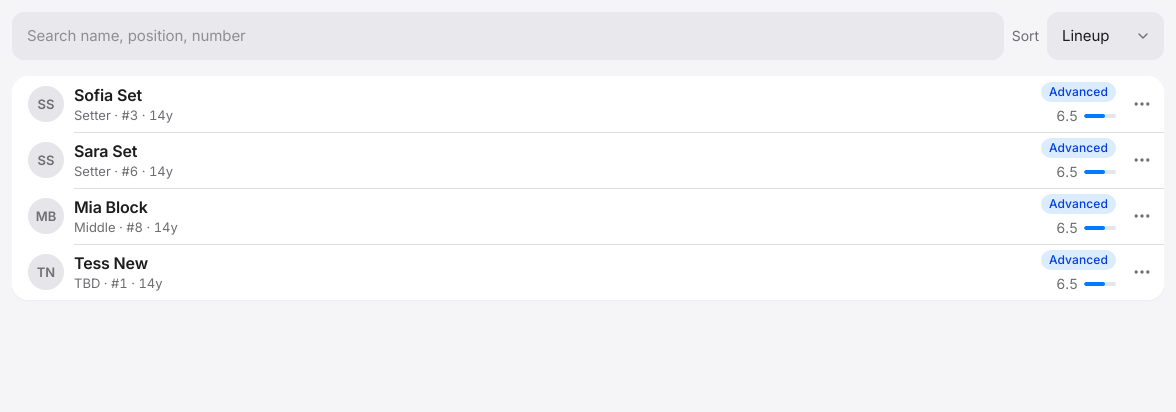
Scenario: TeamRosterTable › Position sort › groups the phone list by position, one list per group
Select "Position" in the dropdown labelled "Sort". click: (1106, 36)
box: [1047, 12, 1164, 60]
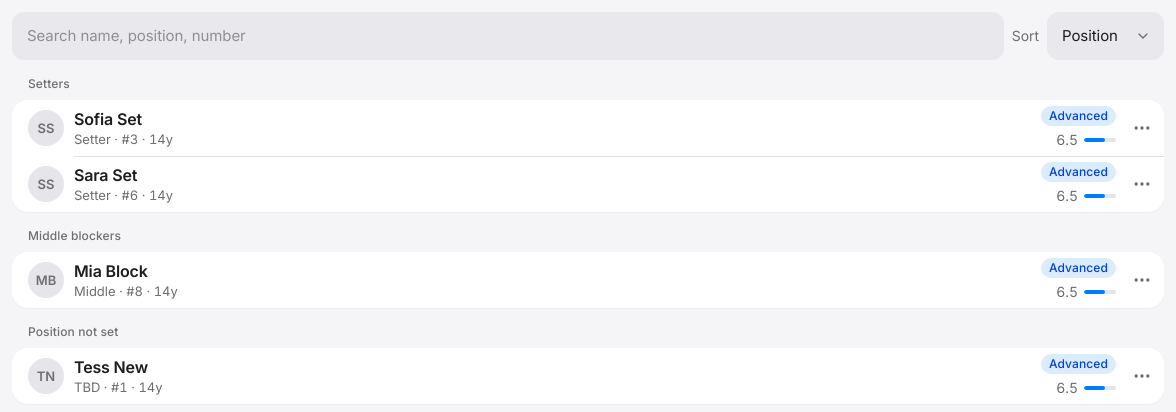
Expected: the headings read "Setters", "Middle blockers", "Position not set", in this order, [28, 76, 70, 91]; [28, 228, 121, 243]; [28, 324, 118, 339]
